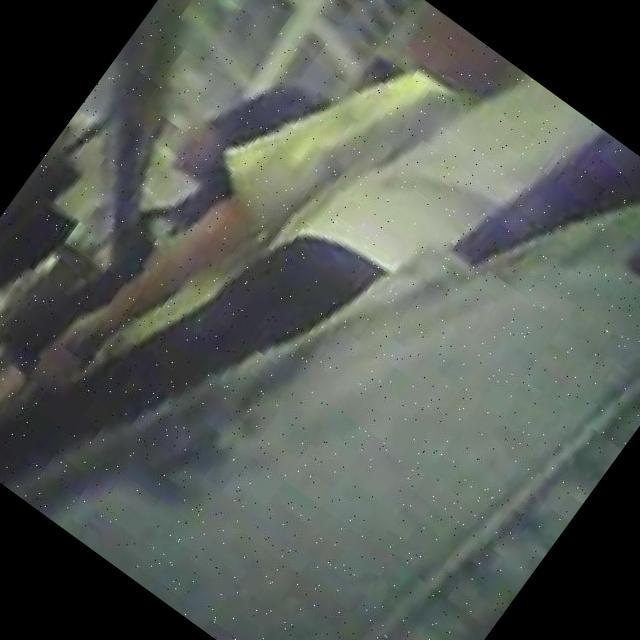person: (38, 0, 640, 640), (29, 0, 602, 565), (139, 0, 426, 302)
